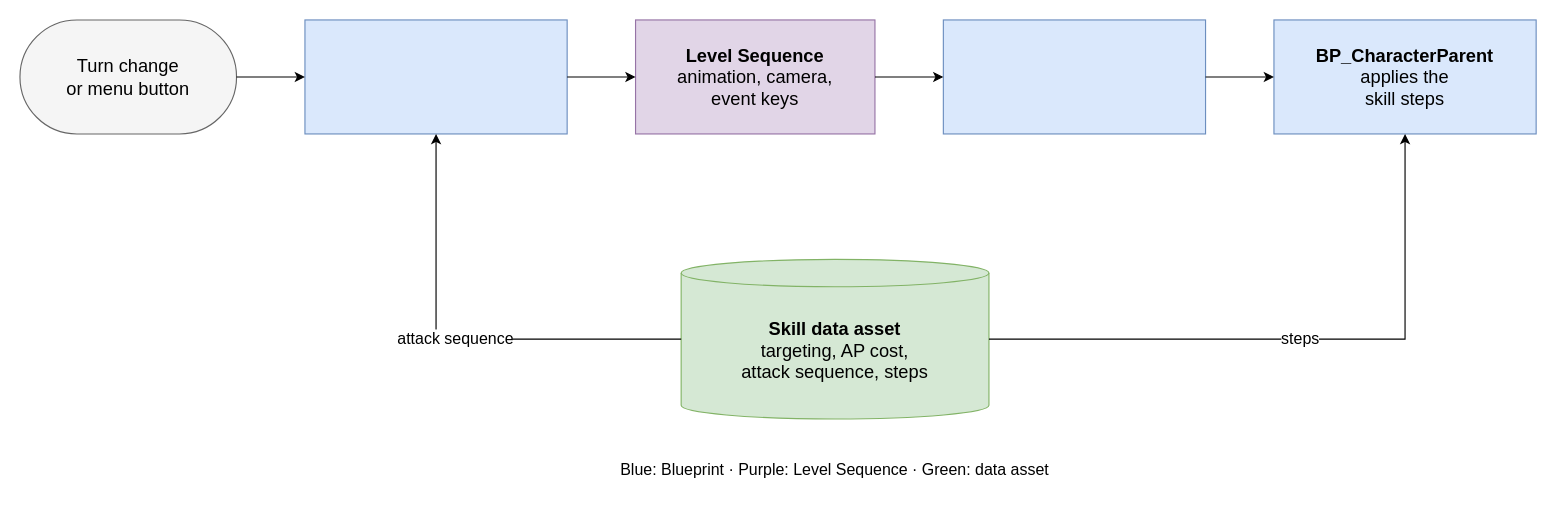
Image size: 1556x507. Some labels were removed from this diagram. The box of each missing label's shape, as (x1, y1, x2, y2) in pixels:
BP_CameraManager starts the sequence, binds the characters: (304, 19, 567, 134)
BP_MasterDirector one event for each kind of key: (942, 19, 1206, 134)
